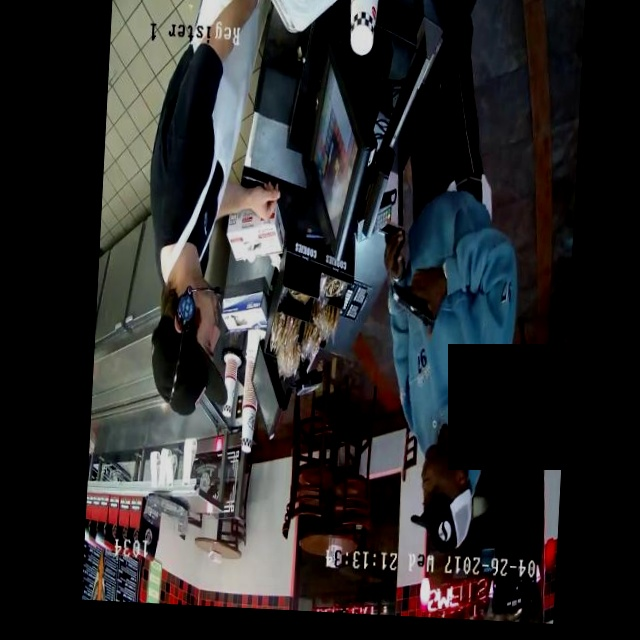gun: (377, 265, 453, 347)
